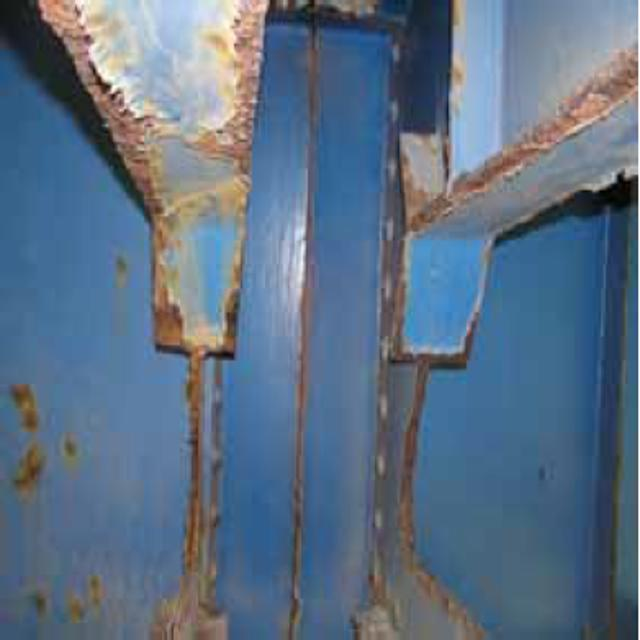corrosion: (367, 48, 631, 640), (57, 10, 263, 640)
